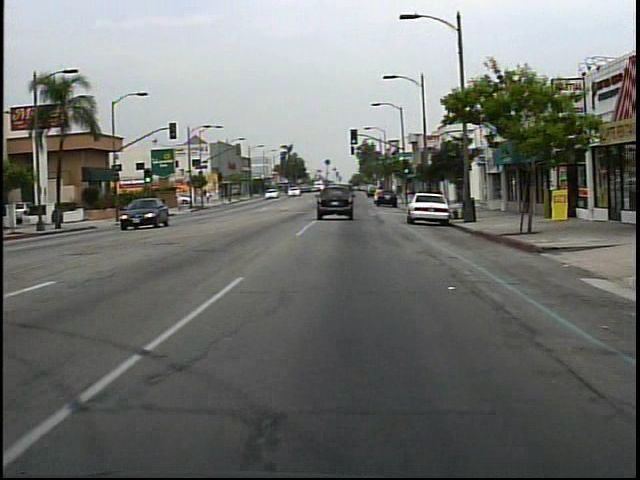person: (204, 187, 213, 206)
